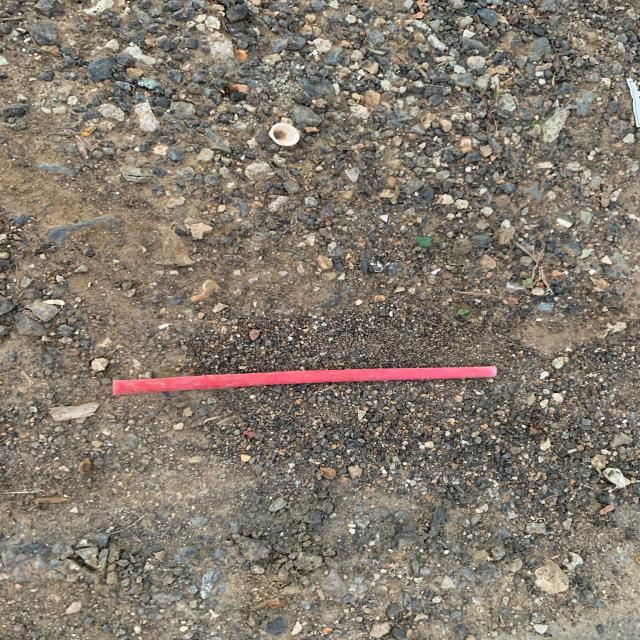litter: (112, 367, 495, 397)
